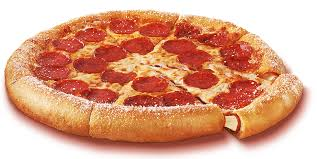pizza: (7, 6, 297, 141)
